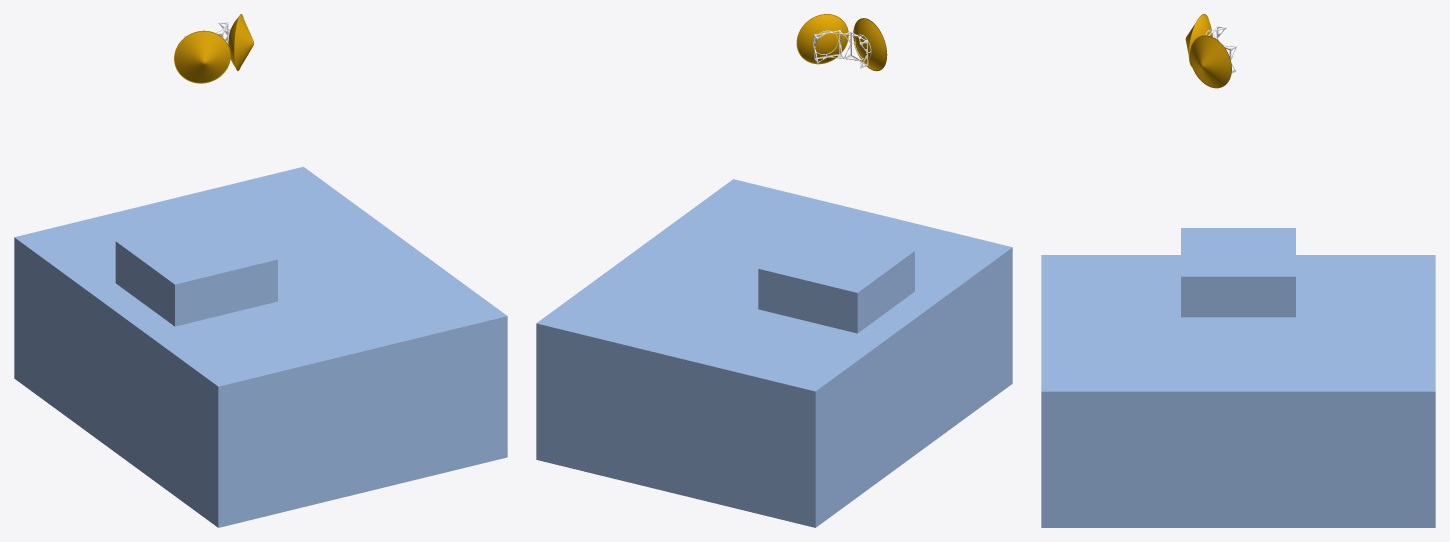
3 renders of one model, left to right at view 1: azimuth 30°, elevation 25°; view 2: azimuth 150°, elevation 25°; view 3: azimuth 270°, elevation 25°, orthographic. The views are drawn at different scales.
Parts seen in each view (by area): view 1: group_13, group_14, group_31, group_31.004; view 2: group_13, group_14, group_31.004, group_31; view 3: group_13, group_14, group_31.004, group_31.
Boxes of the visible parts, x1,y1,x2,y2 form: group_13: [14, 166, 507, 527]; group_14: [115, 216, 277, 326]; group_31: [175, 31, 229, 82]; group_31.004: [228, 15, 253, 70]; group_13: [536, 179, 1012, 527]; group_14: [758, 226, 914, 333]; group_31.004: [797, 14, 847, 63]; group_31: [853, 19, 886, 70]; group_13: [1041, 255, 1435, 527]; group_14: [1181, 228, 1295, 317]; group_31.004: [1190, 36, 1231, 87]; group_31: [1185, 14, 1212, 65].
Size of the model in its own units: 18 by 25.02 by 22.
